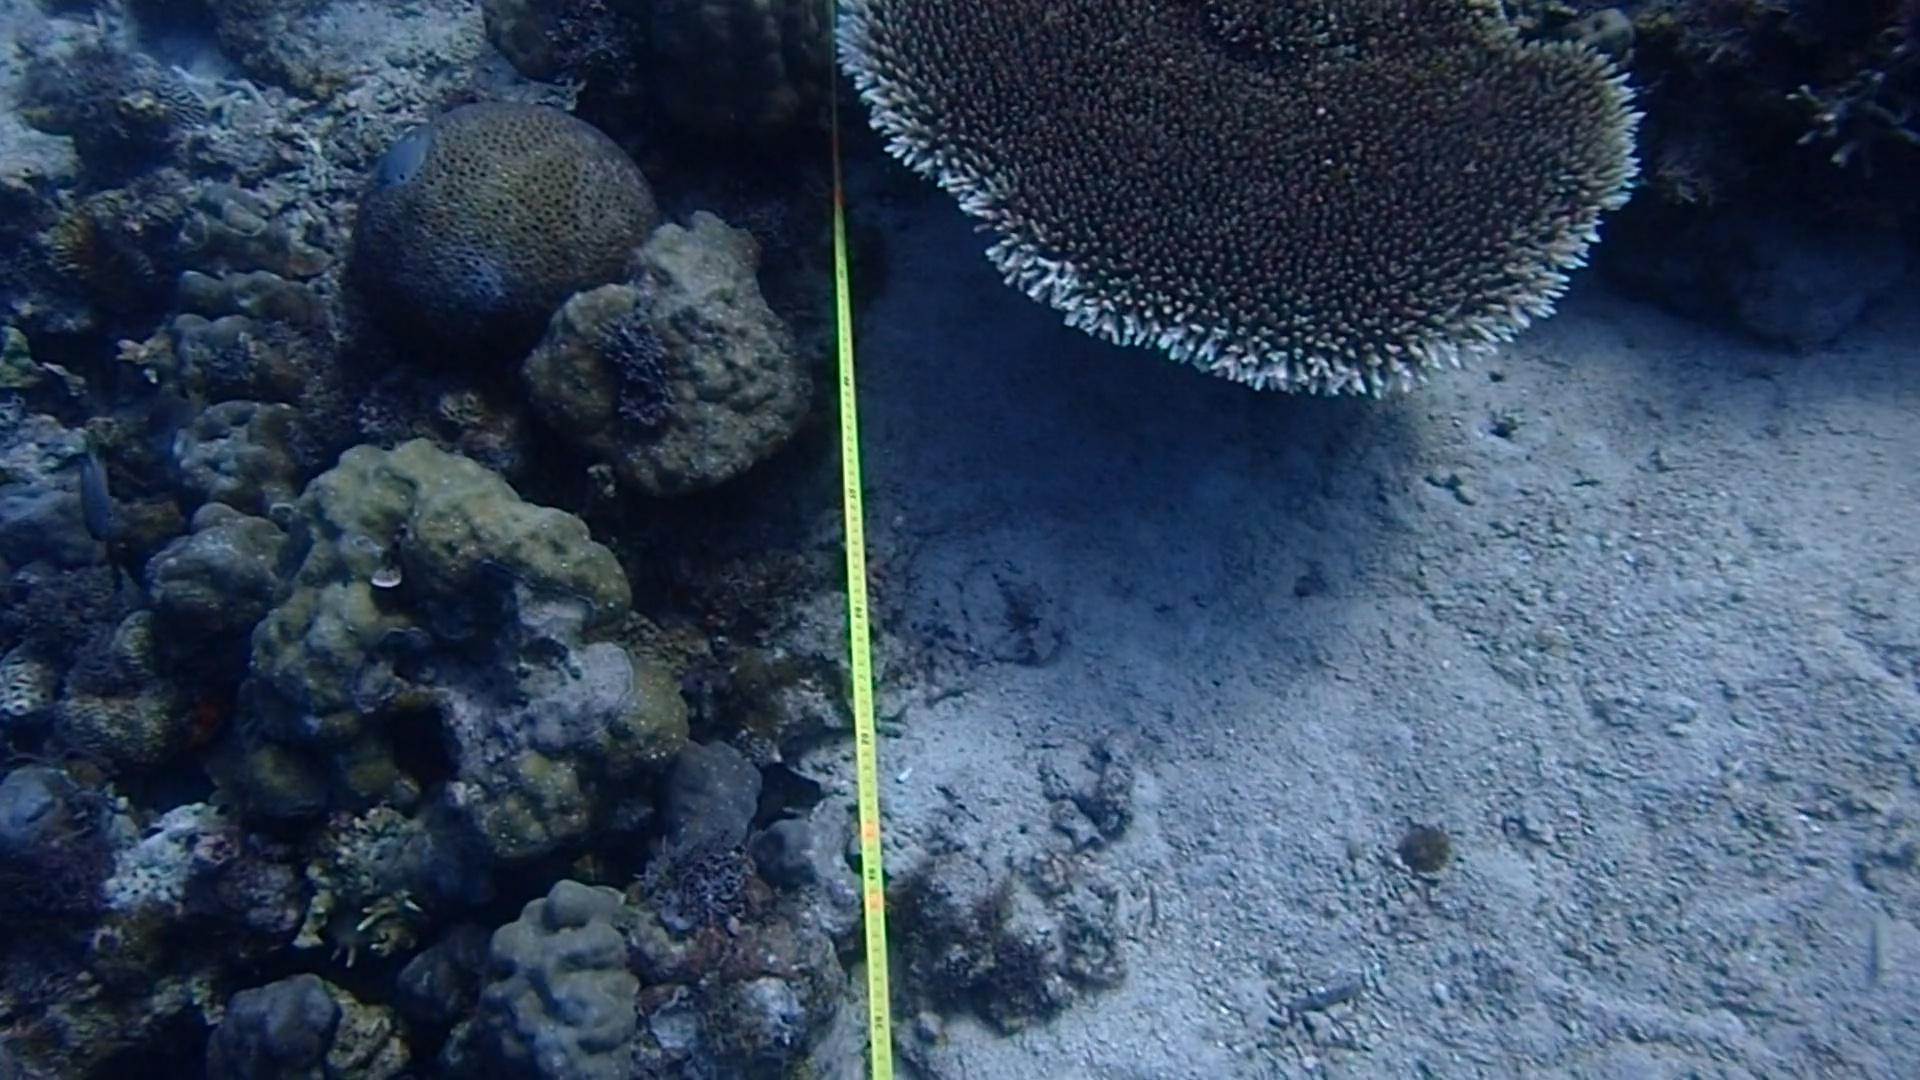Light Fish: (62, 439, 133, 549), (367, 113, 450, 202)
